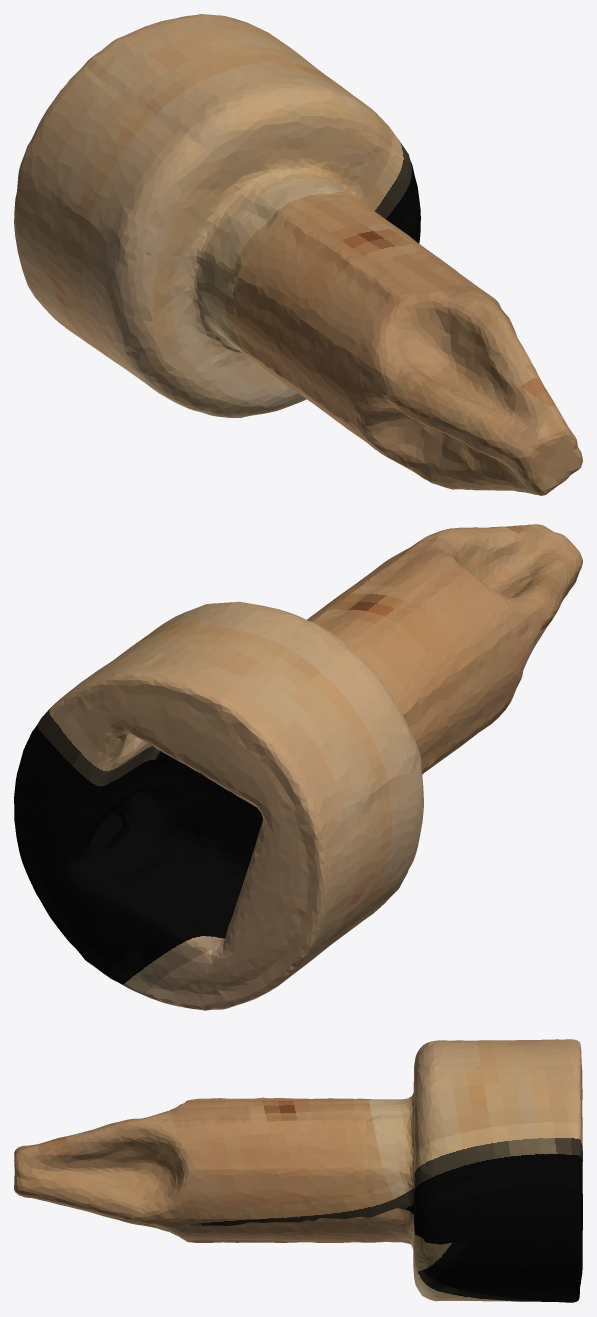
3 views of the same model, one above another, from view 1: azimuth 30°, elevation 25°; view 2: azimuth 150°, elevation 25°; view 3: azimuth 270°, elevation 25° (orthographic). The views are drawn at different scales.
Bounding box in the file's own units: 0.0306 × 0.0306 × 0.0664.
